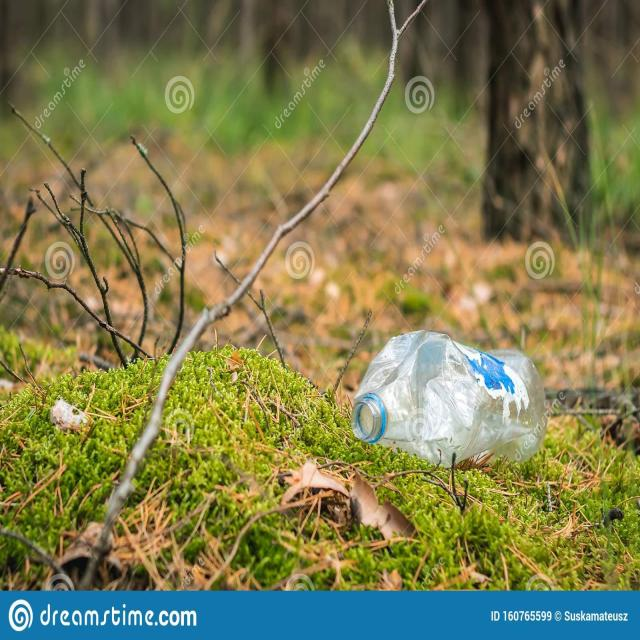bottle: (343, 310, 558, 487)
